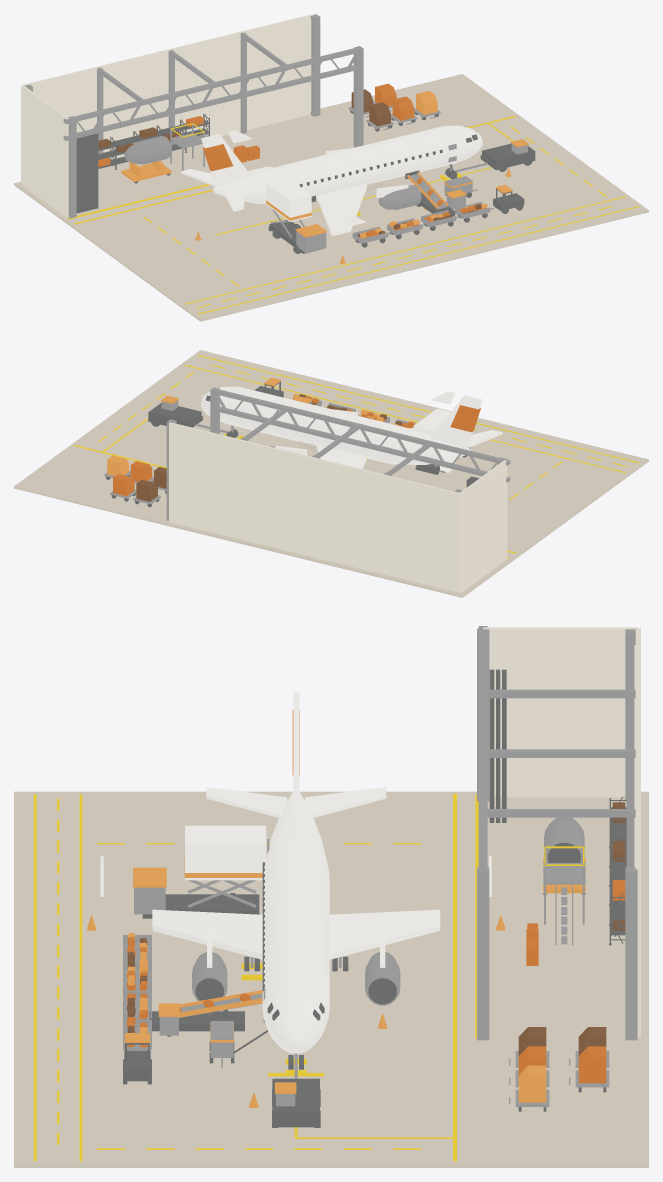
The model's file is aviation.glb.
3 renders of one model, top to bottom at view 1: azimuth 30°, elevation 25°; view 2: azimuth 150°, elevation 25°; view 3: azimuth 270°, elevation 25°, orthographic. The views are drawn at different scales.
Parts seen in each view (by area): view 1: hall_floor, hall_wall_y, hall_cols_y_portal, aircraft_fuselage, hall_wall_x, hall_cols_y_doors, aircraft_wing_1, catering_box, hangar_engine, aircraft_fin, pushback_body, lane_road_a (+9 smaller); view 2: hall_floor, hall_wall_y, aircraft_fuselage, hall_cols_y_portal, hall_wall_x, aircraft_fin, pushback_body, lane_road_b, lane_road_a, aircraft_wing_0, aircraft_livery, catering_box (+4 smaller); view 3: hall_floor, hall_wall_x, aircraft_fuselage, hall_cols_y_portal, catering_box, aircraft_wing_0, aircraft_wing_1, hall_wall_y, hall_cols_y_doors, pushback_body, hangar_stand, catering_chassis (+17 smaller).
Part boxes in pixels (x1,y1,x2,y2): hall_floor: [14, 74, 648, 321]; hall_wall_y: [21, 14, 313, 159]; hall_cols_y_portal: [25, 14, 363, 218]; aircraft_fuselage: [213, 125, 482, 203]; hall_wall_x: [21, 85, 68, 217]; hall_cols_y_doors: [76, 133, 98, 213]; aircraft_wing_1: [316, 184, 367, 236]; catering_box: [266, 178, 311, 221]; hangar_engine: [124, 136, 171, 164]; aircraft_fin: [201, 134, 251, 187]; pushback_body: [480, 143, 535, 170]; lane_road_a: [184, 196, 625, 304]; hall_floor: [14, 350, 648, 597]; hall_wall_y: [169, 422, 460, 592]; aircraft_fuselage: [201, 386, 470, 464]; hall_cols_y_portal: [166, 387, 510, 520]; hall_wall_x: [460, 460, 507, 592]; aircraft_fin: [431, 395, 482, 449]; pushback_body: [148, 403, 202, 427]; lane_road_b: [197, 355, 639, 463]; lane_road_a: [184, 365, 625, 472]; aircraft_wing_0: [316, 445, 366, 468]; aircraft_livery: [450, 405, 480, 432]; catering_box: [413, 408, 450, 435]; hall_floor: [14, 791, 648, 1167]; hall_wall_x: [483, 627, 638, 797]; aircraft_fuselage: [262, 792, 329, 1053]; hall_cols_y_portal: [477, 626, 637, 1040]; catering_box: [185, 825, 266, 880]; aircraft_wing_0: [329, 909, 440, 959]; aircraft_wing_1: [152, 909, 262, 959]; hall_wall_y: [634, 628, 640, 1037]; hall_cols_y_doors: [489, 669, 506, 822]; pushback_body: [272, 1078, 319, 1127]; hangar_stand: [543, 846, 585, 945]; catering_chassis: [142, 894, 259, 918].
Size of the model in its own units: 50 by 10.82 by 36.
